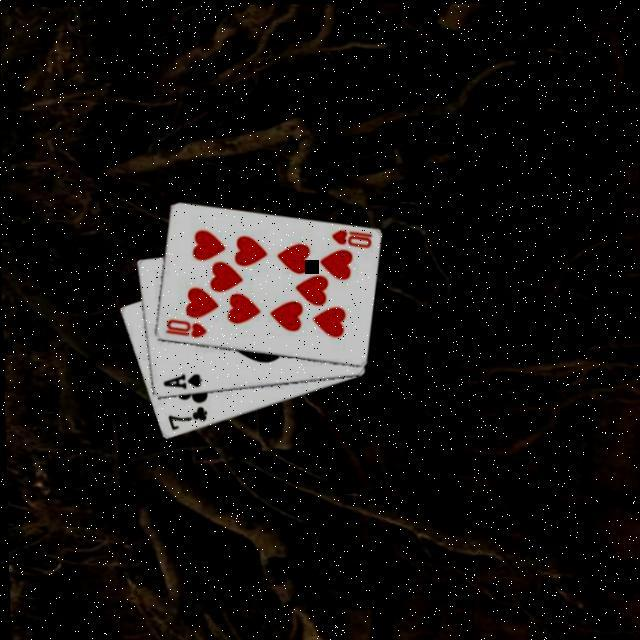10H: (160, 316, 207, 341), (327, 226, 372, 252)
7C: (162, 403, 208, 434)
AS: (158, 371, 202, 393)
